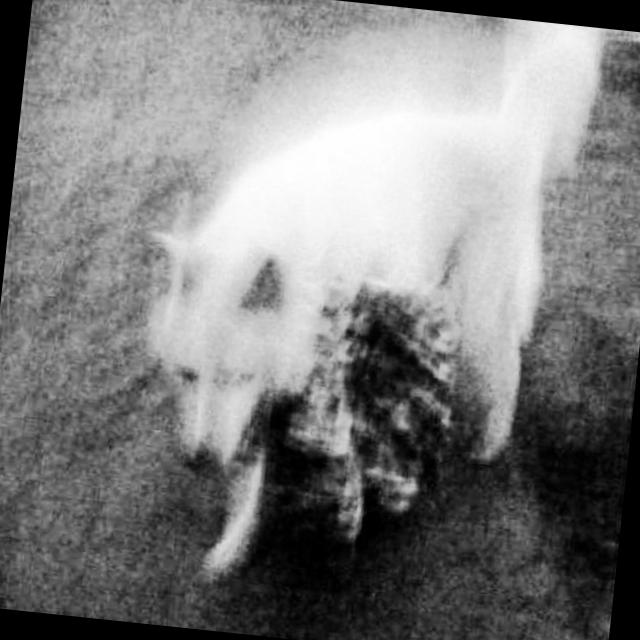Dog: (118, 0, 607, 629)
